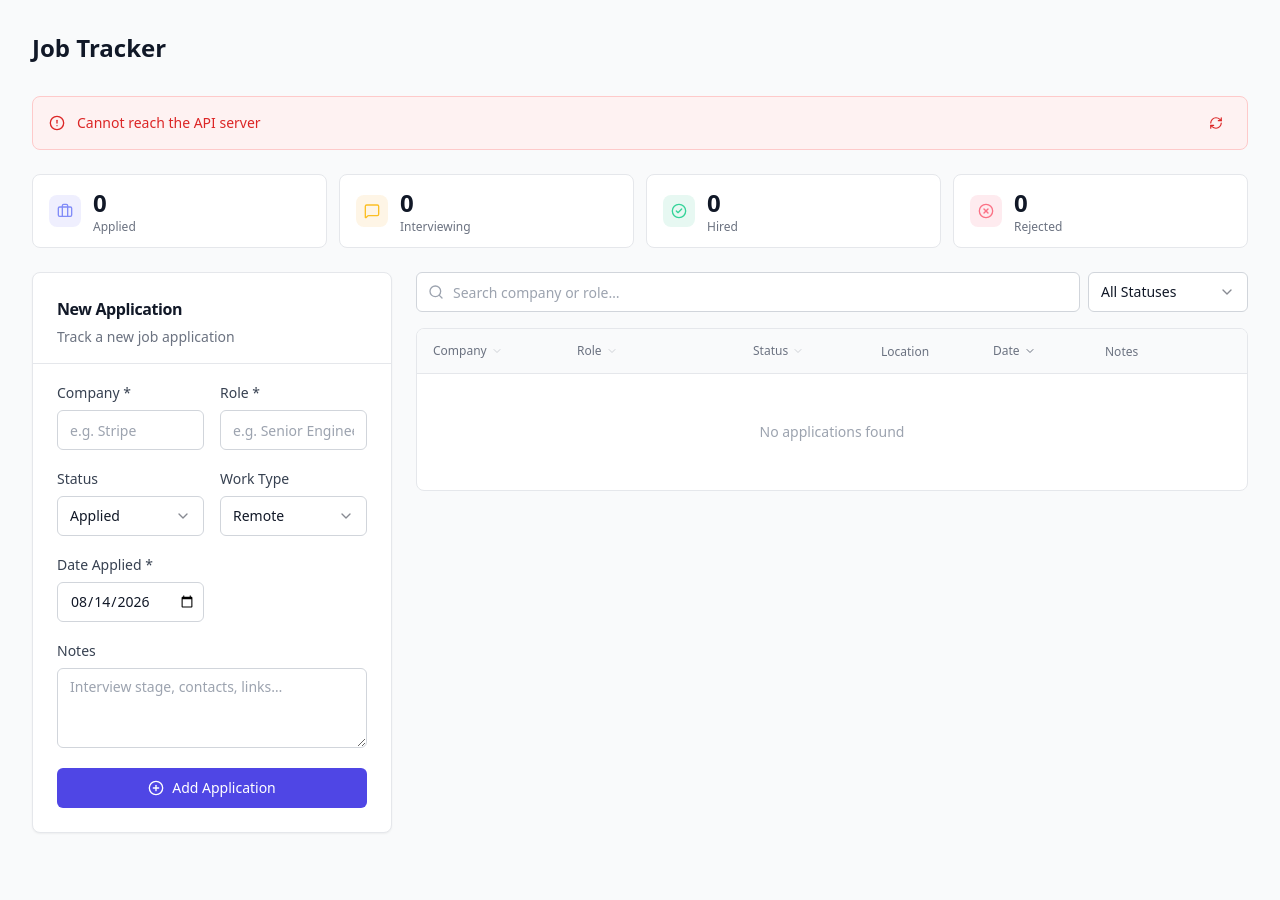
Test: App › shows an error banner with a retry button when loading fails
Expected: the text "Cannot reach the API server" is shown, [77,113,261,132]
Click the button named "Retry loading applications": (1216, 123) [1201,109,1231,137]
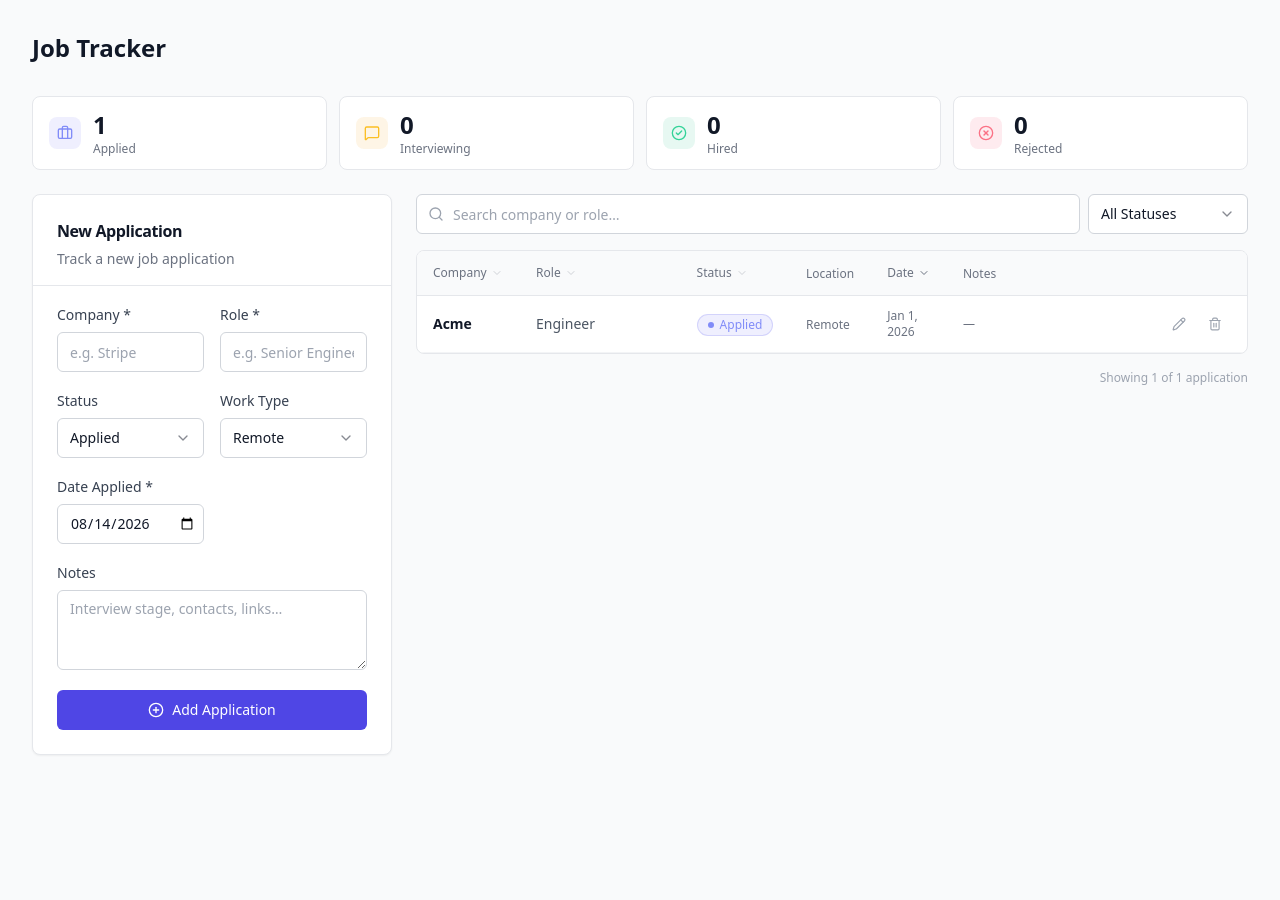
Expected: the text "Acme" is shown, [417,296,520,352]
Expected: the text "Cannot reach the API server" is gone
